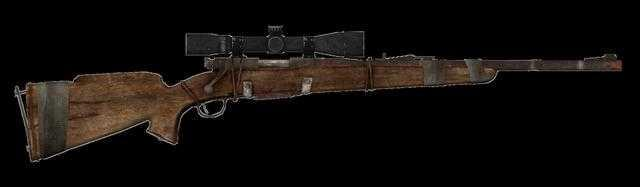heavyweapon: (17, 6, 633, 179)
